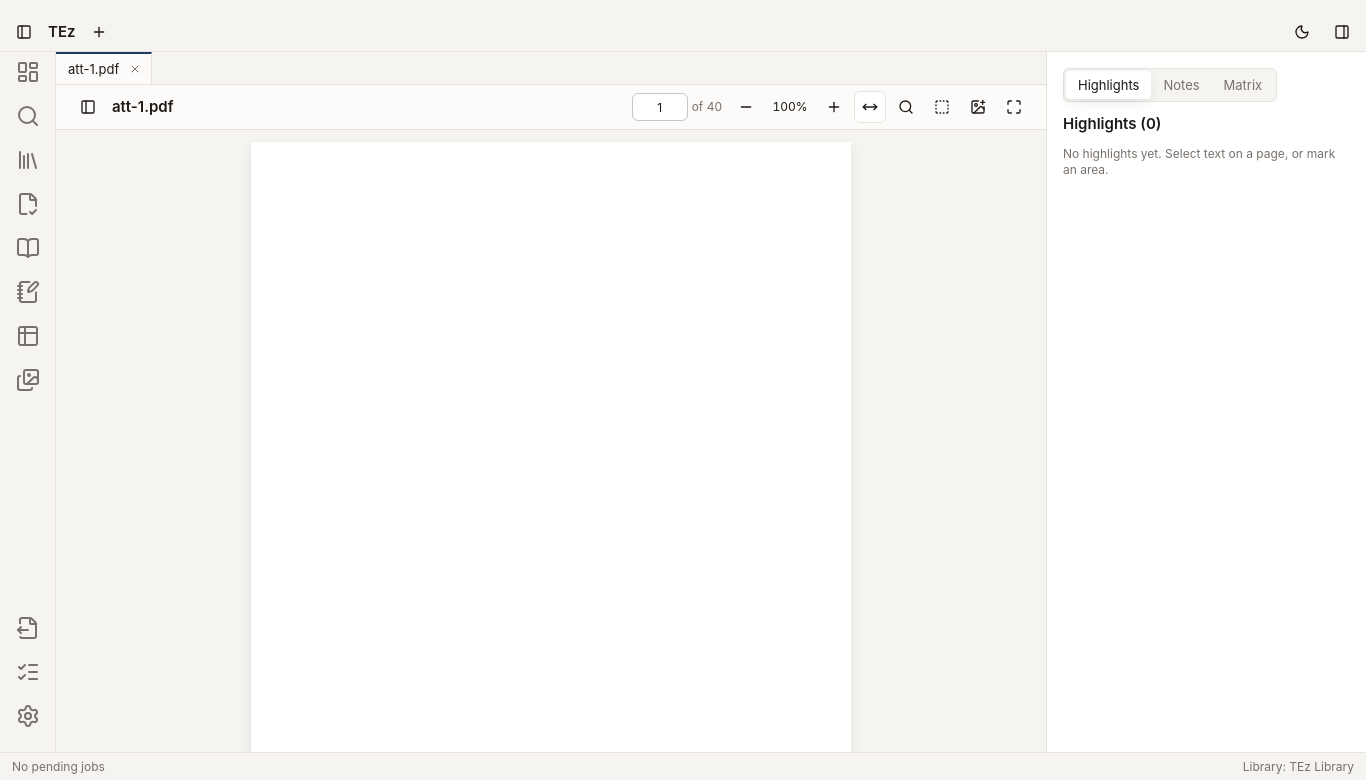
Test: the reader › zooms in steps
Expected: the text "of 40" is shown, [692,99,722,115]
Click the button named "Zoom in" at x=834, y=107, box [818,91,850,123]
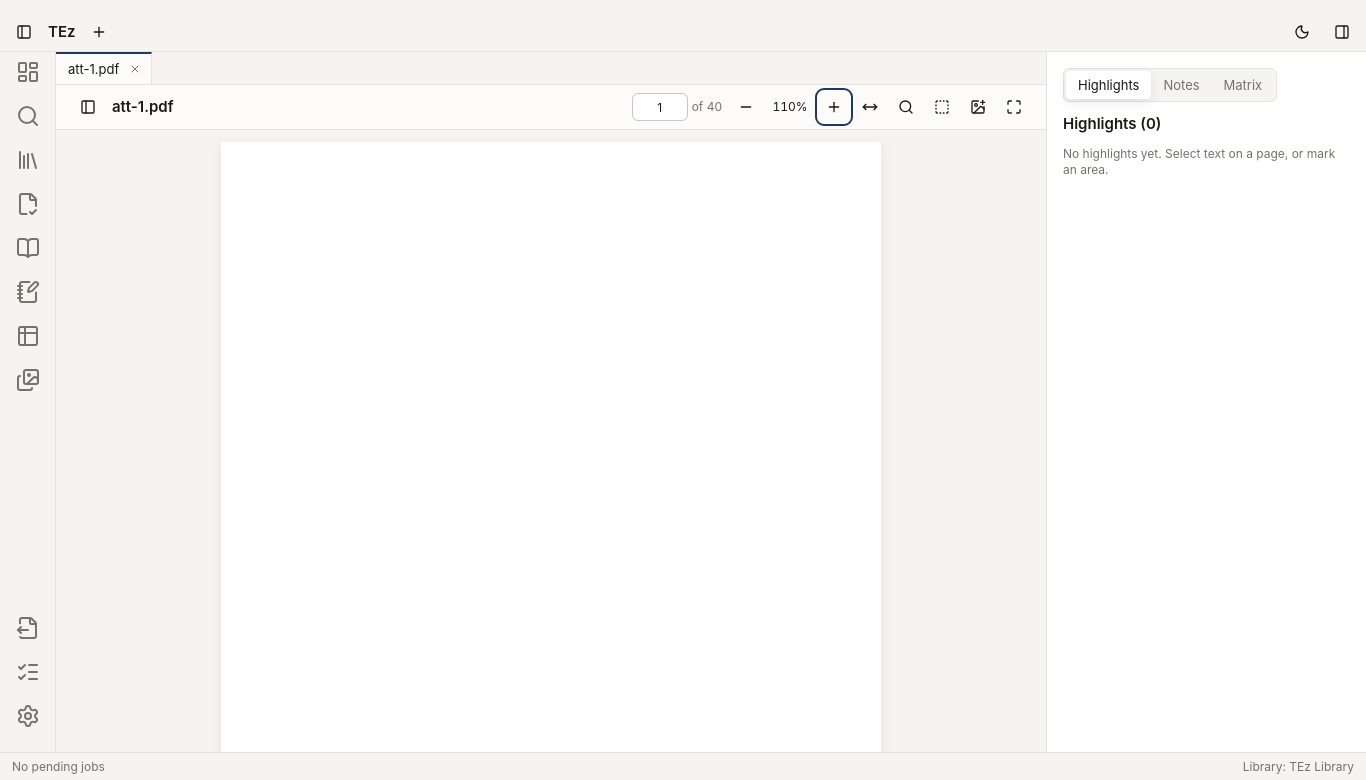
Expected: the text "110%" is shown, [772,99,808,114]
